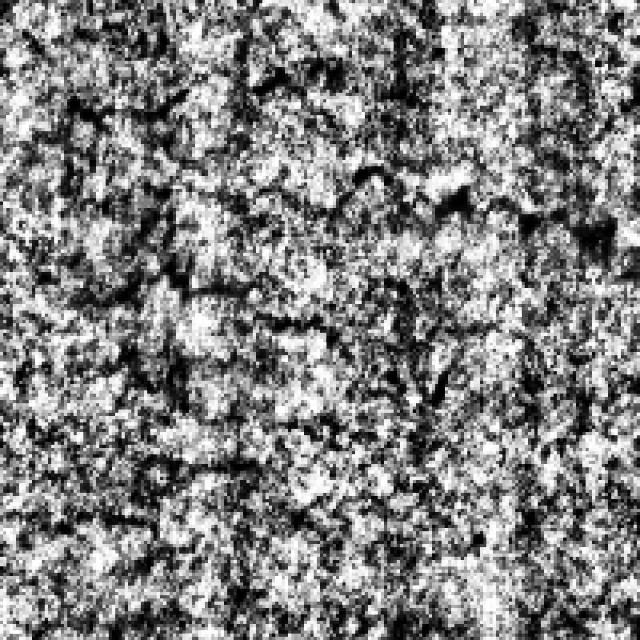Pitted_Surface: (307, 141, 611, 448), (26, 76, 596, 234), (74, 250, 346, 428)
